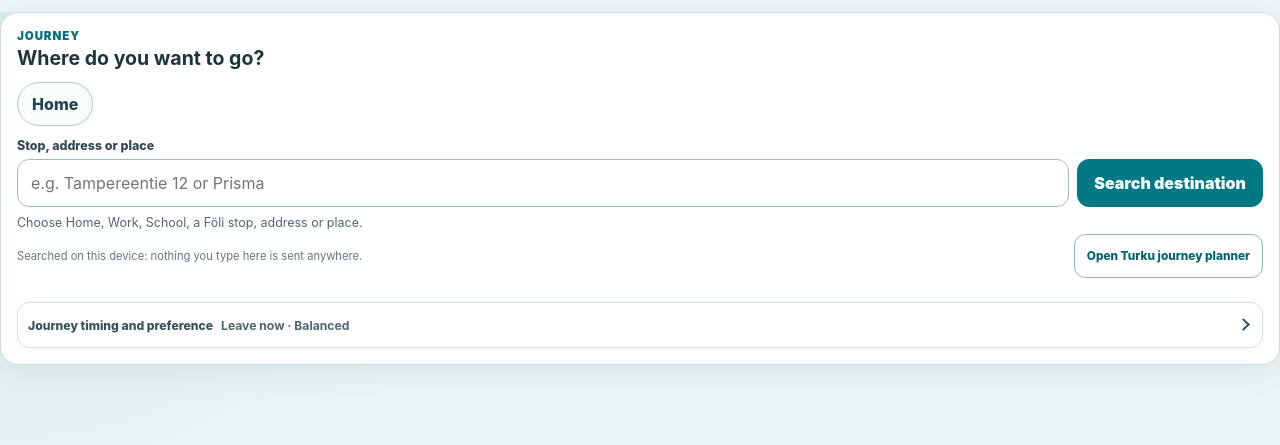
an address absent from the offline pack keeps the wider-search handoff
The image size is (1280, 445).
Step 1. Type "Unknownstreet 999" into the dropdown labelled "Stop, address or place" → (543, 183), box [17,159,1069,207]
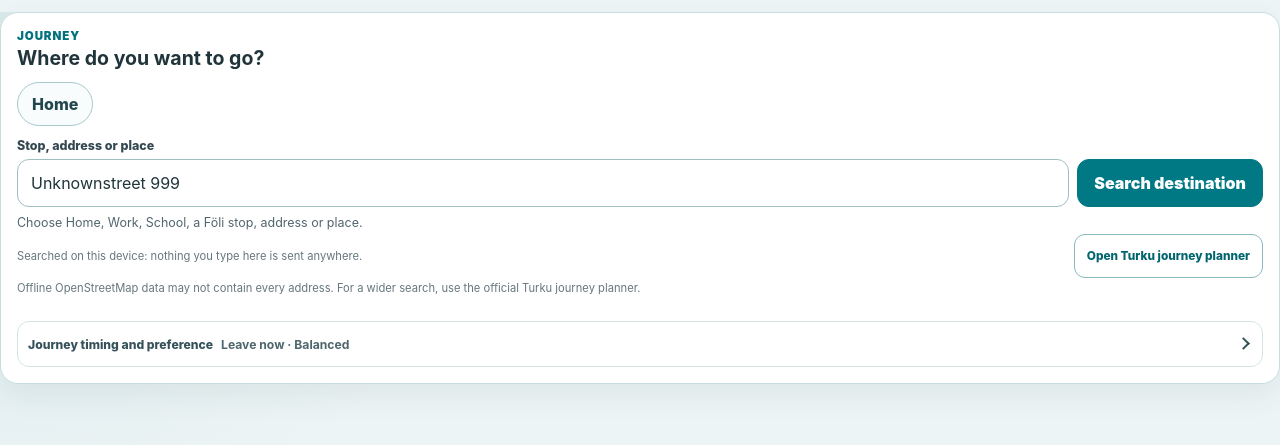
Step 2. Click the button "Search destination" → (1170, 183), box [1077,159,1263,207]
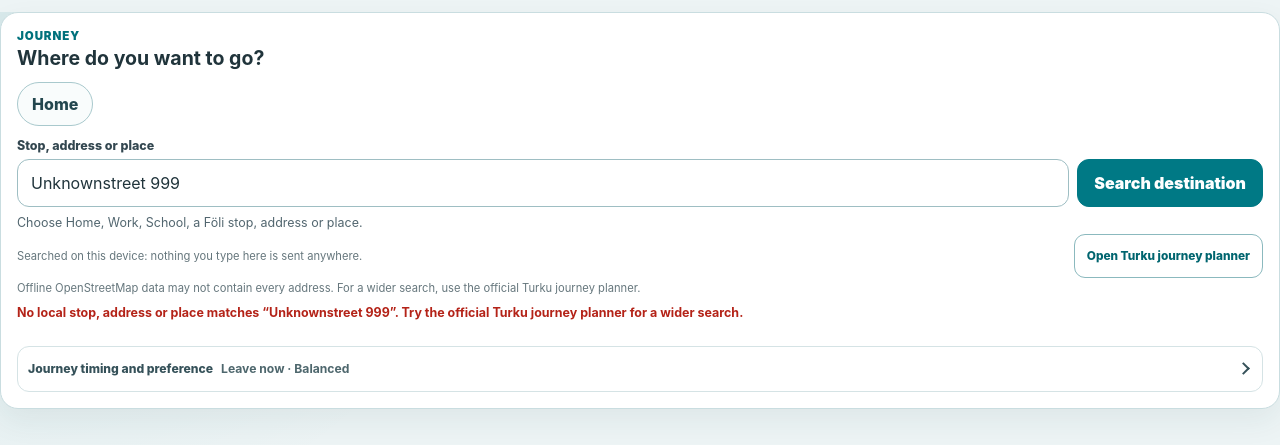
Check: the message shows "No local stop, address or place matches “Unknownstreet 999”.", box [17,305,743,320]
